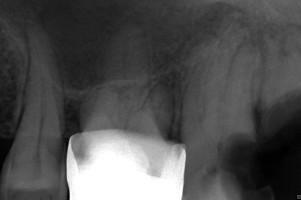Furcation Involvement: (169, 1, 243, 65), (246, 18, 301, 63)
